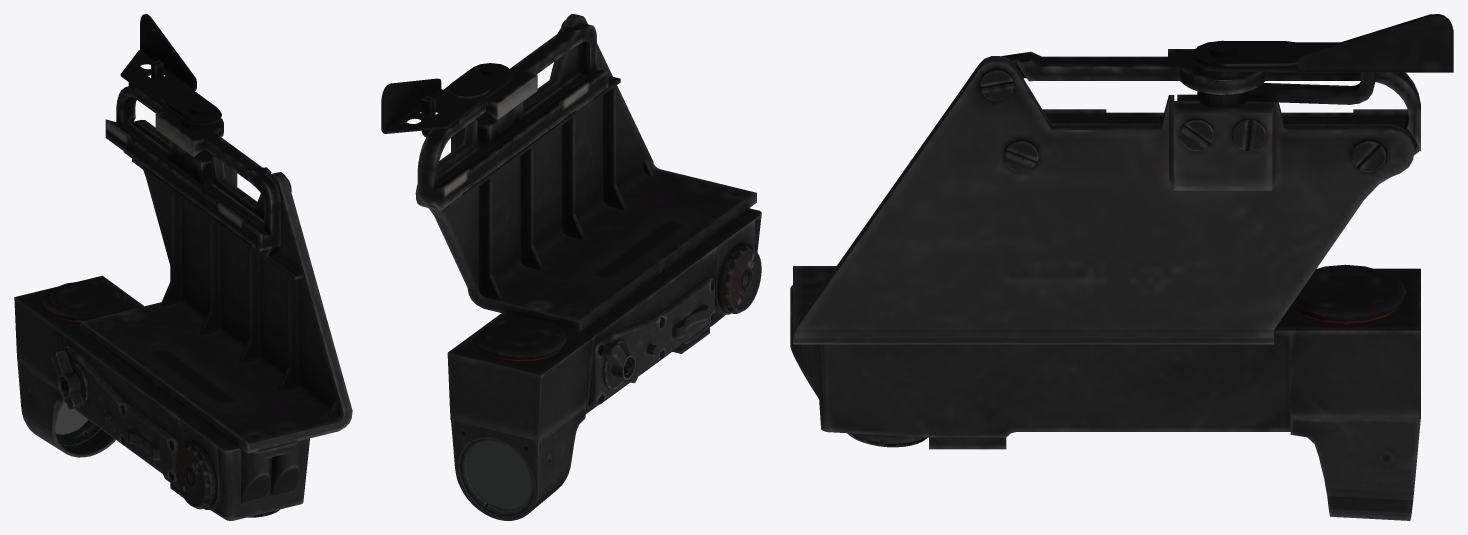
The picture shows the model from 3 angles, left to right: view 1: azimuth 30°, elevation 25°; view 2: azimuth 150°, elevation 25°; view 3: azimuth 270°, elevation 25°; orthographic projection. The views are drawn at different scales.
Parts seen in each view (by area): view 1: TW_5947db3f86f77447880cf76f_mode2_PZ_Import; view 2: TW_5947db3f86f77447880cf76f_mode2_PZ_Import; view 3: TW_5947db3f86f77447880cf76f_mode2_PZ_Import.
Boxes of the visible parts, x1,y1,x2,y2 form: TW_5947db3f86f77447880cf76f_mode2_PZ_Import: [14, 14, 352, 520]; TW_5947db3f86f77447880cf76f_mode2_PZ_Import: [381, 14, 761, 520]; TW_5947db3f86f77447880cf76f_mode2_PZ_Import: [790, 14, 1453, 520].
Size of the model in its own units: 0.0366 by 0.0929 by 0.0875.
Materials: 1 (1 with a texture image).
